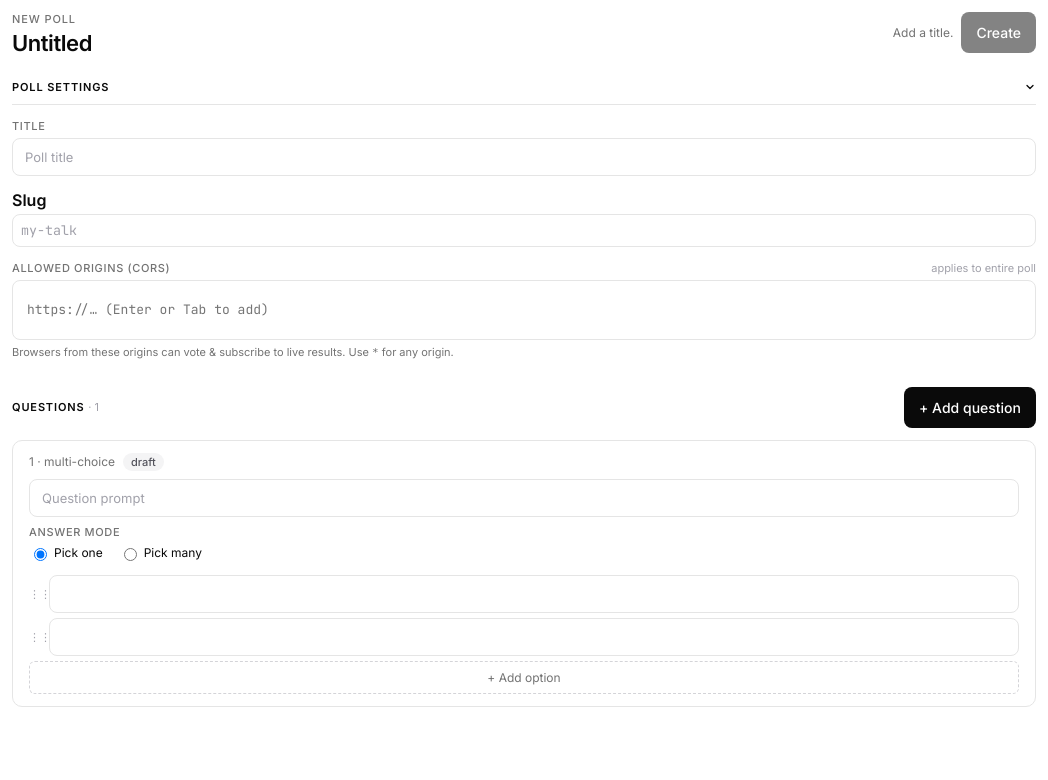
PollEditorPage — create mode › surfaces server-issued SLUG_TAKEN as a readable error, not a stack trace
Type "My talk" into the field with test id "poll-title" at (524, 157), box x1=12 y1=138 x2=1036 y2=176
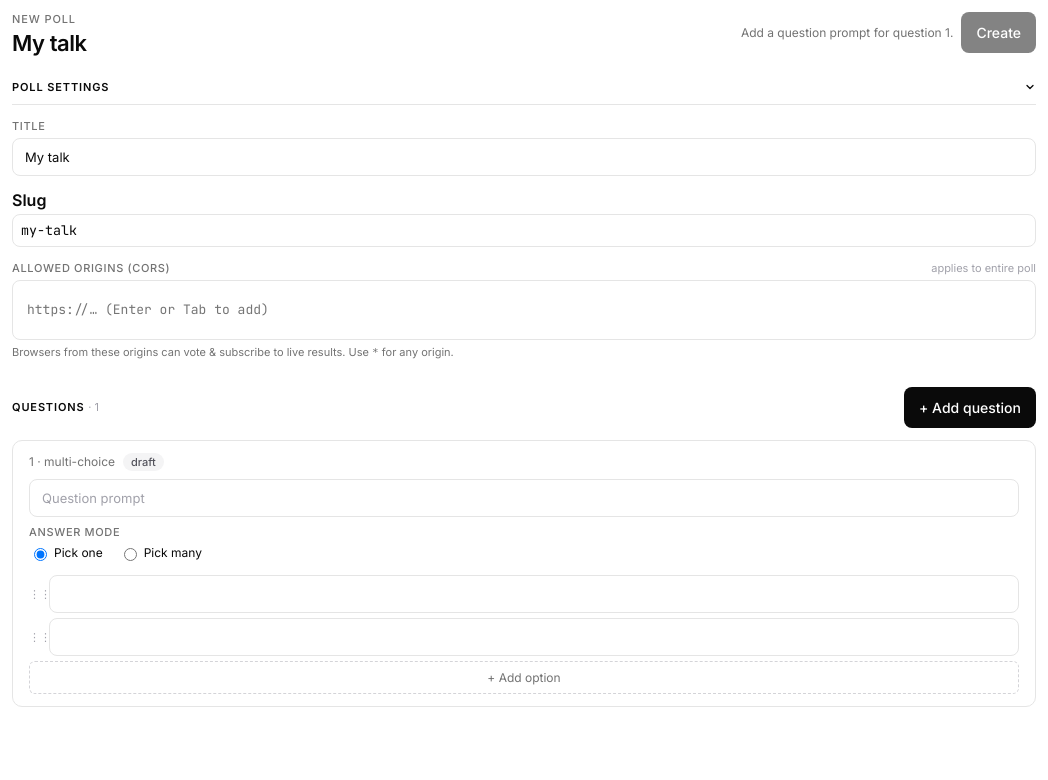
Type "Q?" into the field with test id "question-prompt" at (524, 498), box x1=29 y1=479 x2=1019 y2=517
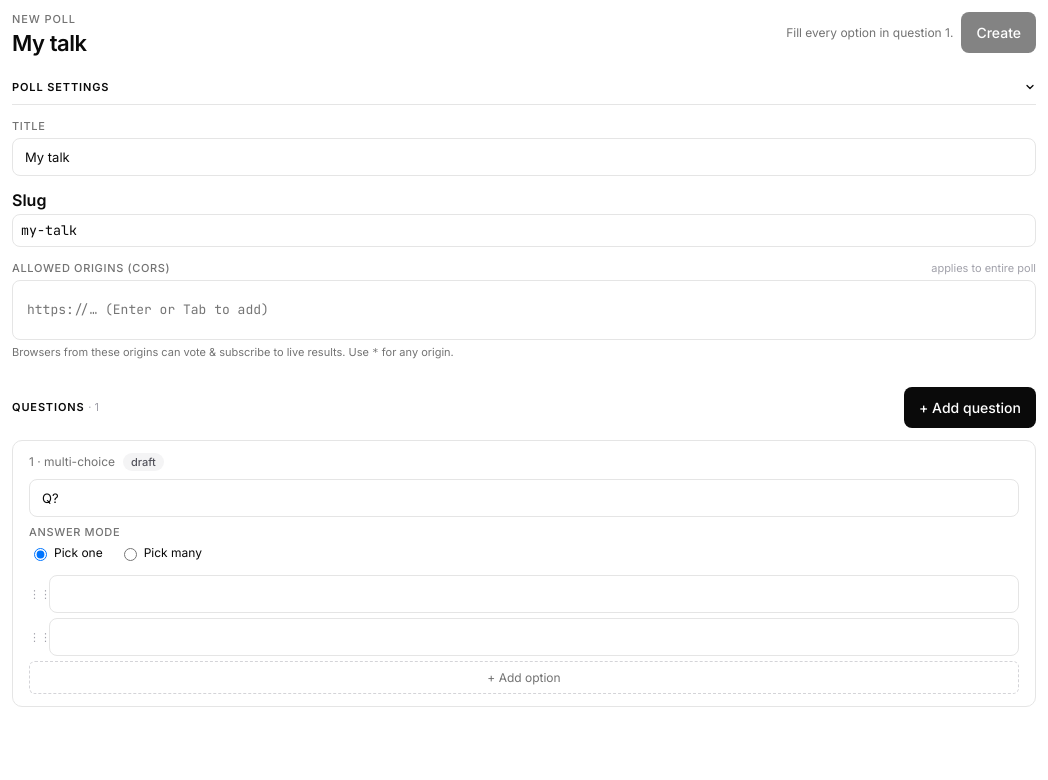
Type "A" into the 1st field with test id "option-label" at (534, 594), box x1=49 y1=575 x2=1019 y2=613
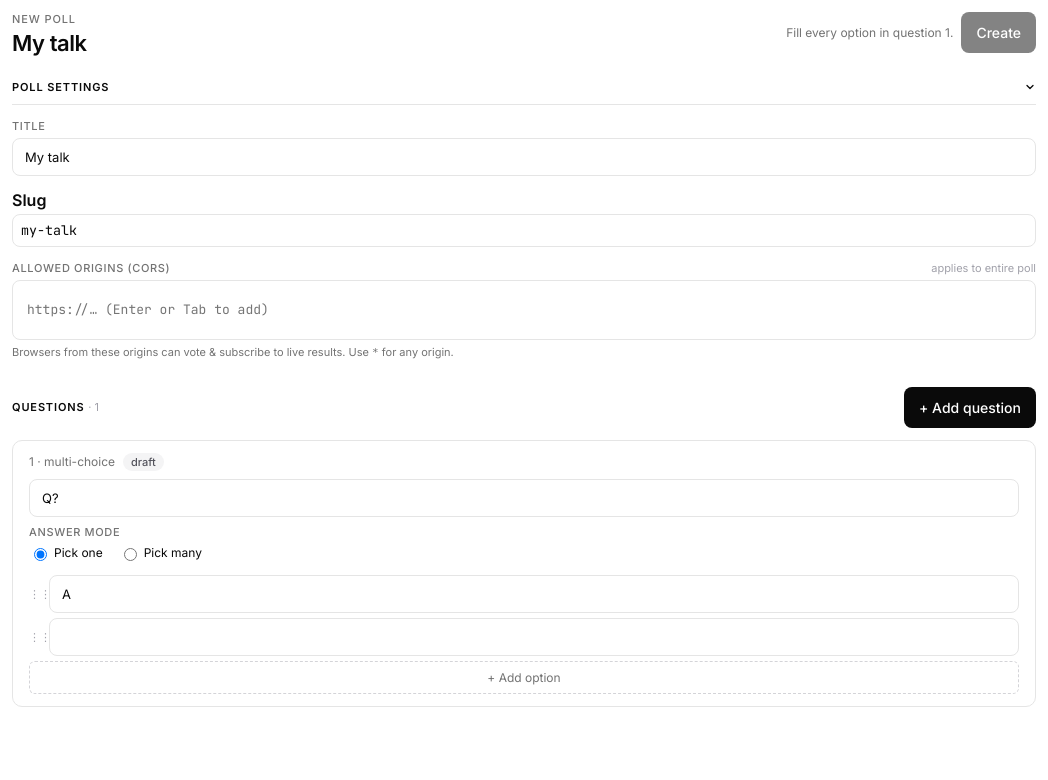
Type "B" into the 2nd field with test id "option-label" at (534, 637), box x1=49 y1=618 x2=1019 y2=656
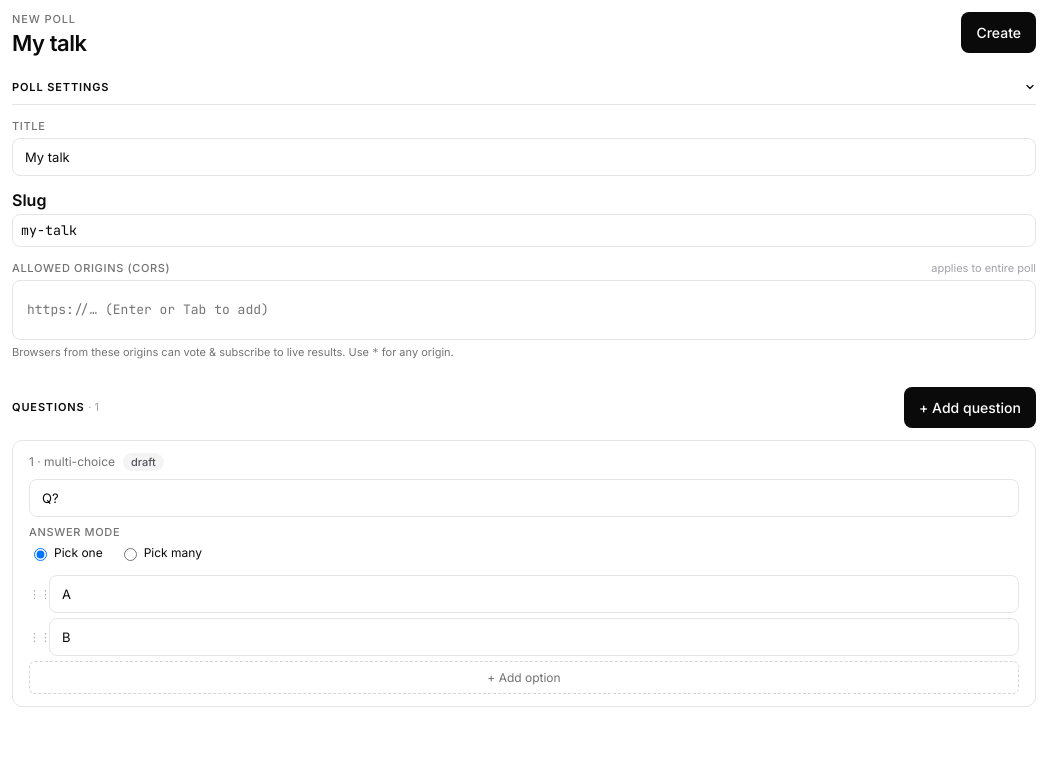
Click the button with test id "poll-editor-submit" at (999, 32), box x1=961 y1=12 x2=1036 y2=53
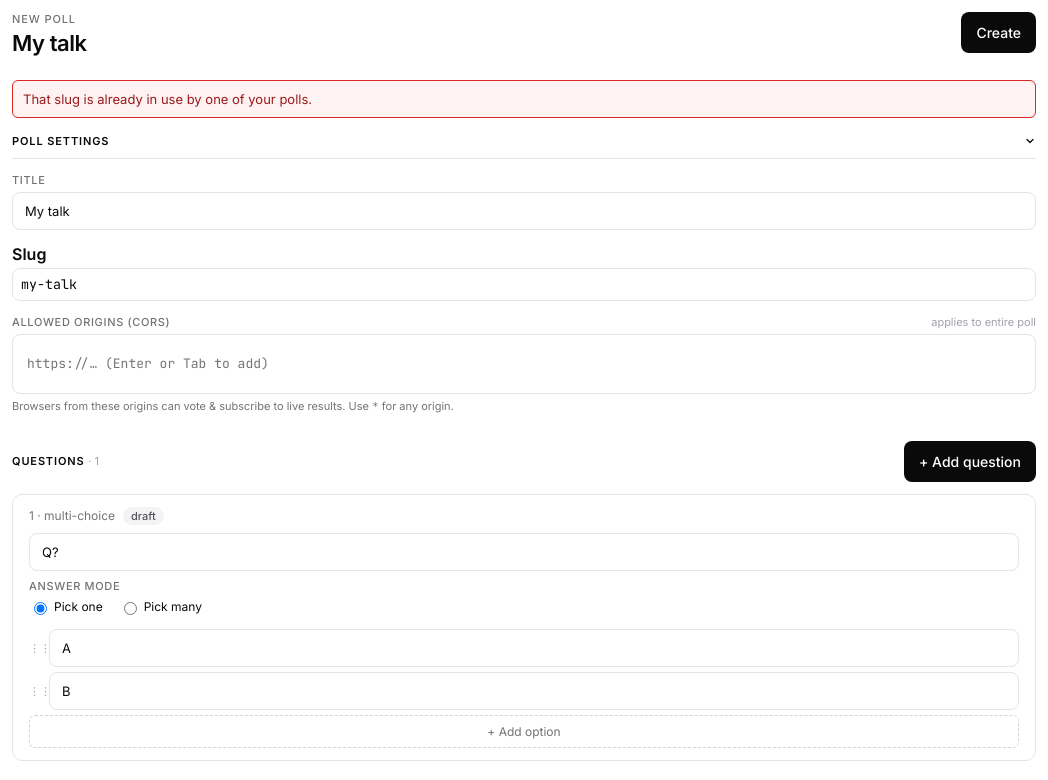
Expected: the message "That slug is already in use by one of your polls." is shown, x1=12 y1=80 x2=1036 y2=118
